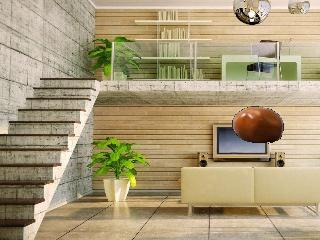potato: (229, 104, 288, 146)
